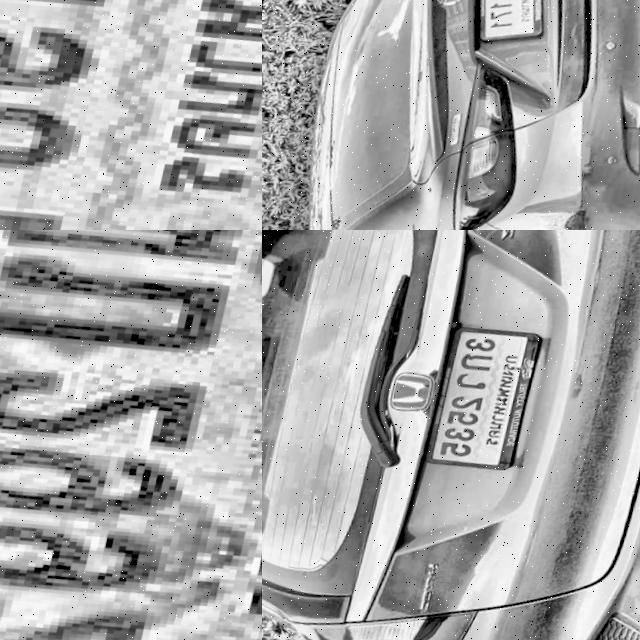license-plate: (0, 230, 262, 640), (0, 0, 262, 230), (423, 321, 555, 482), (458, 0, 569, 59)
